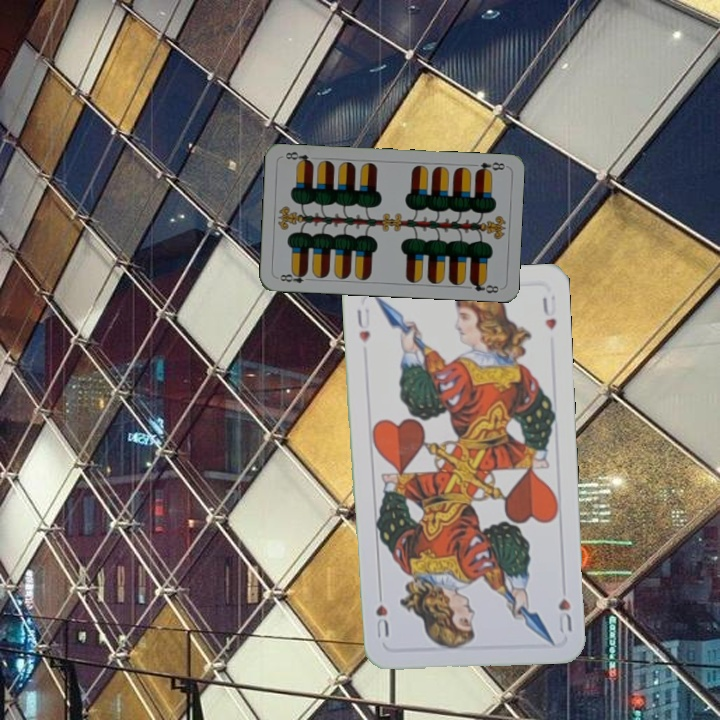E8: (274, 268, 314, 286), (471, 158, 508, 176)
HU: (353, 304, 373, 345), (554, 595, 574, 635)
